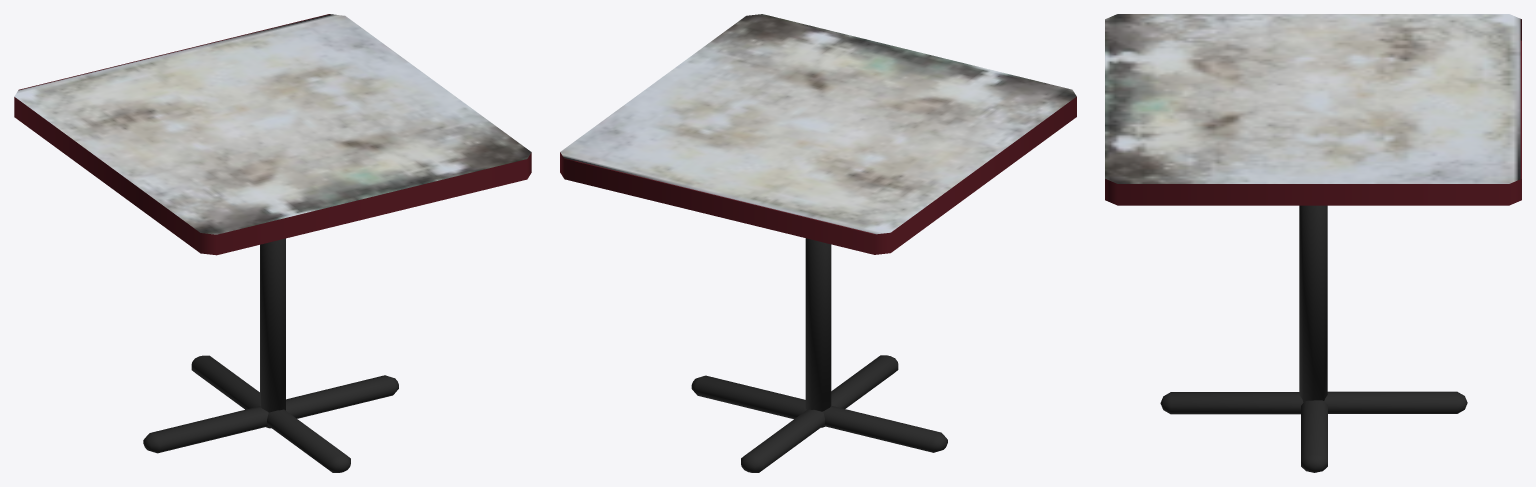
The model's file is restaurant_table.FBX.
3 renders of one model, left to right at view 1: azimuth 30°, elevation 25°; view 2: azimuth 150°, elevation 25°; view 3: azimuth 270°, elevation 25°, orthographic. The views are drawn at different scales.
Parts seen in each view (by area): view 1: restaurant_table; view 2: restaurant_table; view 3: restaurant_table.
Part boxes in pixels (x1,y1,x2,y2): restaurant_table: (14, 14, 531, 472); restaurant_table: (560, 14, 1076, 472); restaurant_table: (1105, 14, 1521, 472).
Bounding box in the file's own units: 87.57 × 75.49 × 90.77.
